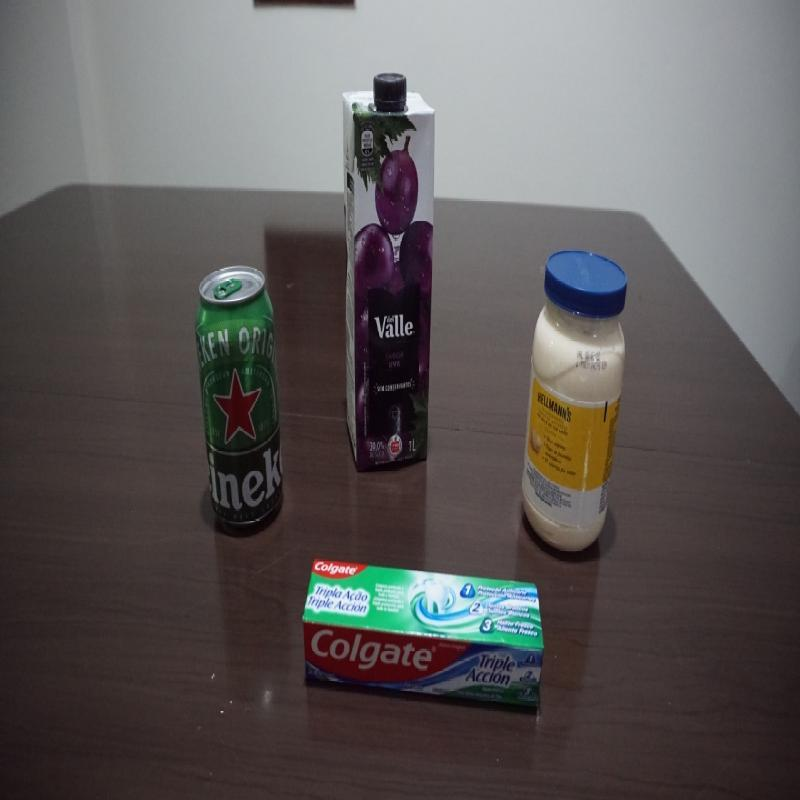Beer can: (193, 263, 288, 531)
Mayonnaise: (521, 248, 630, 557)
Toothpaste: (297, 556, 550, 718)
